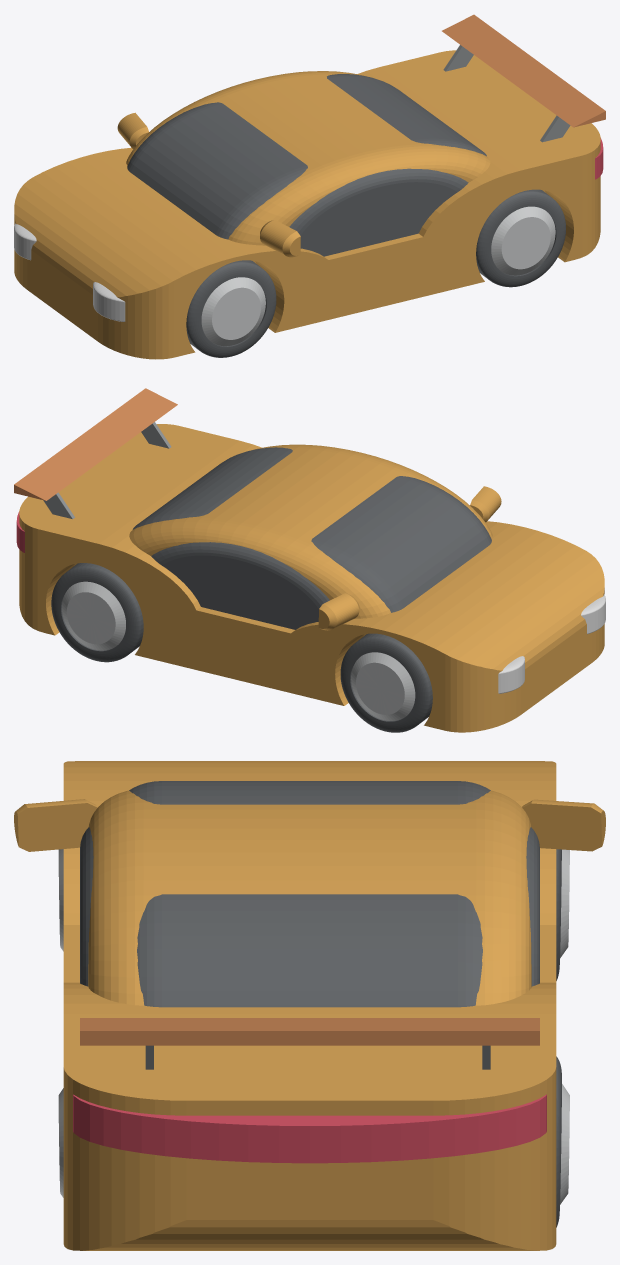
The model's file is yellow_sport_car.glb.
3 views of the same model, one above another, from view 1: azimuth 30°, elevation 25°; view 2: azimuth 150°, elevation 25°; view 3: azimuth 270°, elevation 25° (orthographic). The views are drawn at different scales.
Visible parts, largest first — view 1: Mesh_Mesh_head_geo.001_lambert2SG.001; view 2: Mesh_Mesh_head_geo.001_lambert2SG.001; view 3: Mesh_Mesh_head_geo.001_lambert2SG.001.
Part boxes in pixels (<box>): Mesh_Mesh_head_geo.001_lambert2SG.001: <box>14,14,605,359</box>; Mesh_Mesh_head_geo.001_lambert2SG.001: <box>14,388,605,732</box>; Mesh_Mesh_head_geo.001_lambert2SG.001: <box>14,761,605,1250</box>.
Size of the model in its own units: 124 by 36 by 72.08.
